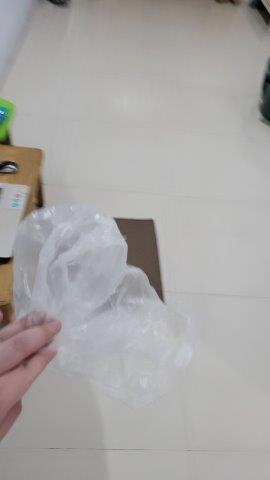plastik: (12, 205, 193, 405)
